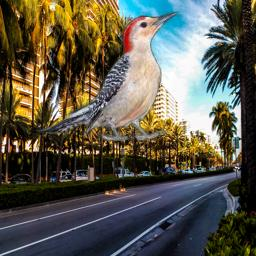Woodpecker: (36, 9, 181, 141)
